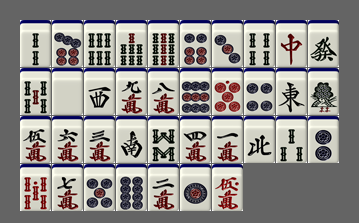0m: (212, 164, 243, 211)
0p: (212, 68, 243, 115)
0s: (20, 164, 51, 211)
1m: (212, 116, 243, 163)
1p: (180, 164, 211, 211)
1s: (308, 68, 339, 115)
1z: (276, 68, 307, 115)
2m: (148, 164, 179, 211)
2p: (308, 116, 339, 163)
2s: (20, 20, 51, 67)
2z: (116, 116, 147, 163)
3m: (84, 116, 115, 163)
3p: (212, 20, 243, 67)
3s: (276, 116, 307, 163)
3z: (84, 68, 115, 115)
4m: (180, 116, 211, 163)
4p: (244, 68, 275, 115)
4s: (244, 20, 275, 67)
4z: (244, 116, 275, 163)
5m: (20, 116, 51, 163)
5p: (84, 164, 115, 211)
5s: (20, 68, 51, 115)
5z: (52, 68, 83, 115)
6m: (52, 116, 83, 163)
6p: (180, 20, 211, 67)
6s: (84, 20, 115, 67)
6z: (308, 20, 339, 67)
7m: (52, 164, 83, 211)
7p: (52, 20, 83, 67)
7s: (116, 20, 147, 67)
7z: (276, 20, 307, 67)
8m: (148, 68, 179, 115)
8p: (116, 164, 147, 211)
8s: (148, 116, 179, 163)
9m: (116, 68, 147, 115)
9p: (180, 68, 211, 115)
9s: (148, 20, 179, 67)
